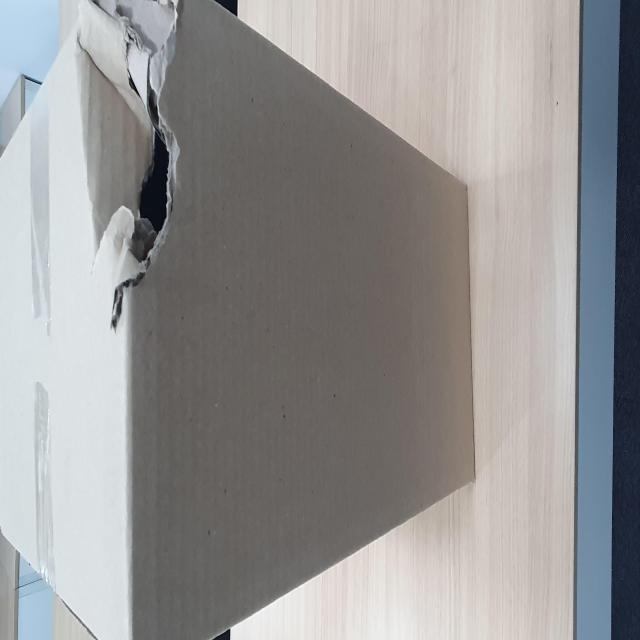damaged: (179, 143, 360, 343)
